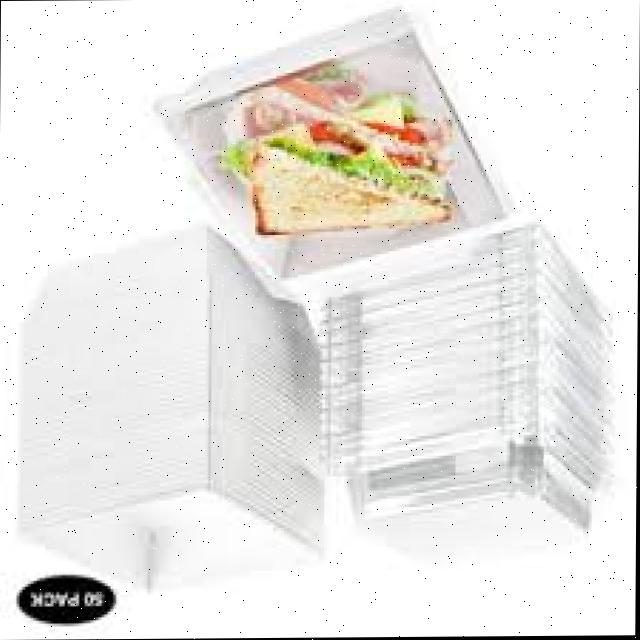disposable: (155, 0, 527, 314)
